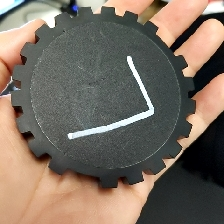gear: (9, 5, 198, 190)
missing: (141, 18, 189, 72), (47, 155, 119, 190)
